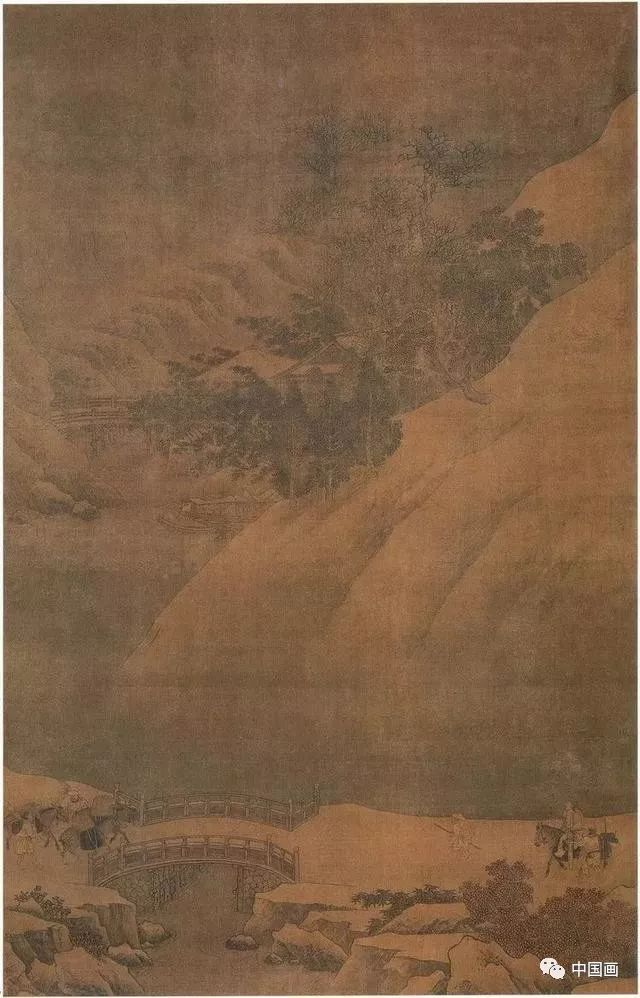boat: (159, 515, 221, 542)
bridge: (81, 794, 308, 916), (55, 400, 165, 462)
horse: (528, 822, 624, 874), (56, 819, 131, 858), (5, 806, 64, 848), (72, 805, 140, 839)
house: (195, 331, 400, 392), (156, 493, 281, 523)
man: (555, 795, 583, 863), (444, 802, 472, 864), (9, 810, 37, 871), (578, 828, 606, 886)
river: (22, 673, 639, 821), (23, 541, 180, 748)
tree: (318, 166, 536, 402), (160, 394, 290, 493), (278, 389, 383, 498)
